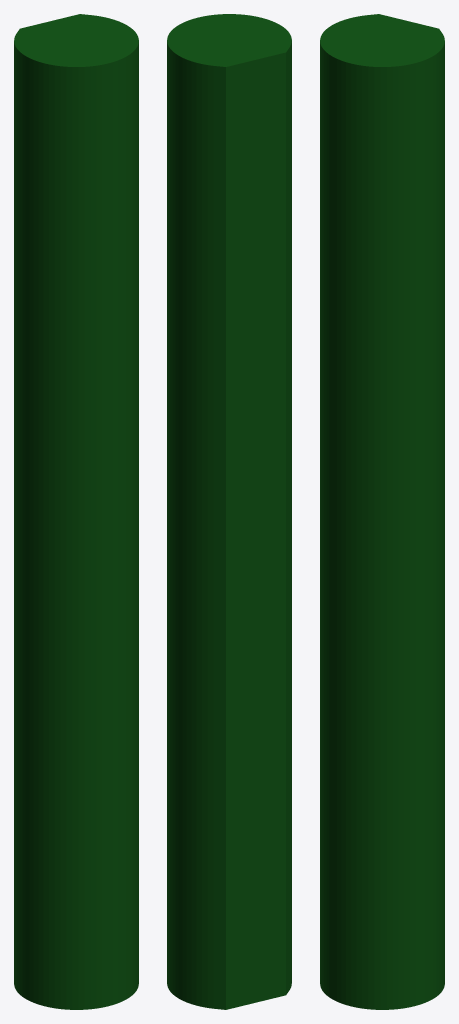
File: stem_1B_0.glb
3 renders of one model, left to right at view 1: azimuth 30°, elevation 25°; view 2: azimuth 210°, elevation 25°; view 3: azimuth 330°, elevation 25°, orthographic.
Visible parts, largest first — view 1: stem_1B_0; view 2: stem_1B_0; view 3: stem_1B_0.
Part boxes in pixels (<box>): stem_1B_0: <box>14,14,138,1009</box>; stem_1B_0: <box>167,14,291,1009</box>; stem_1B_0: <box>320,14,444,1009</box>.
Size of the model in its own units: 0.0072 by 0.06 by 0.00666.
